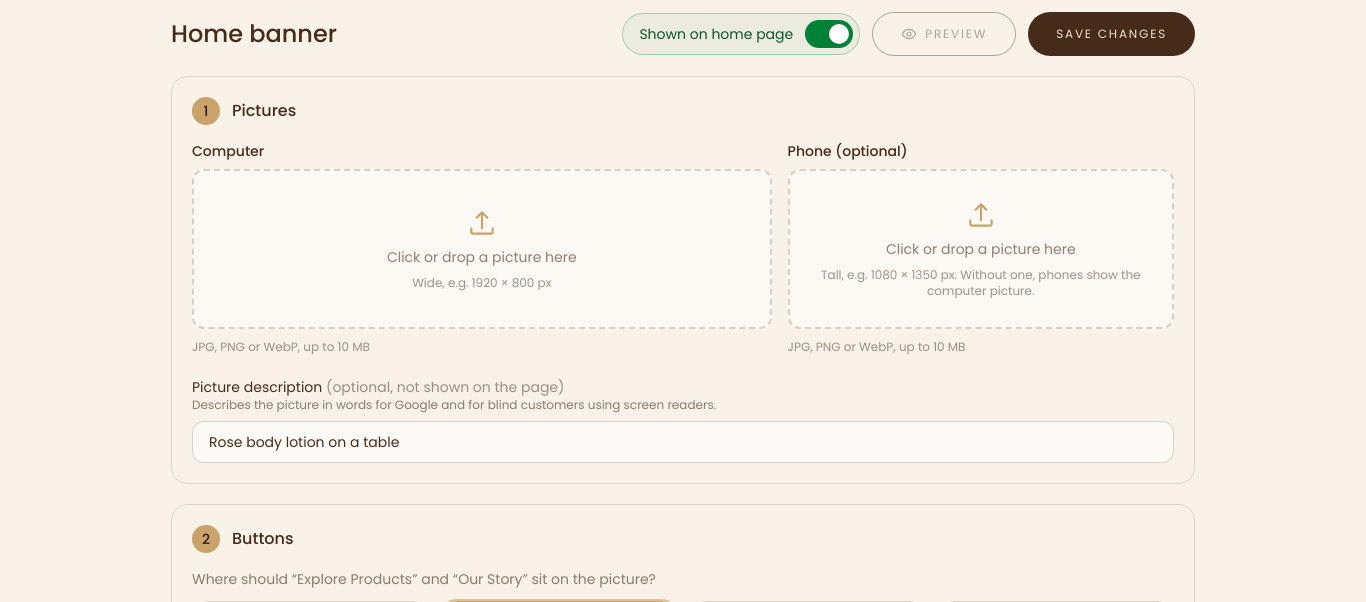
Scenario: BannerForm › a switched-on banner needs a picture
Click the button "Save changes".
click(1112, 34)  # box [1028,12,1195,56]
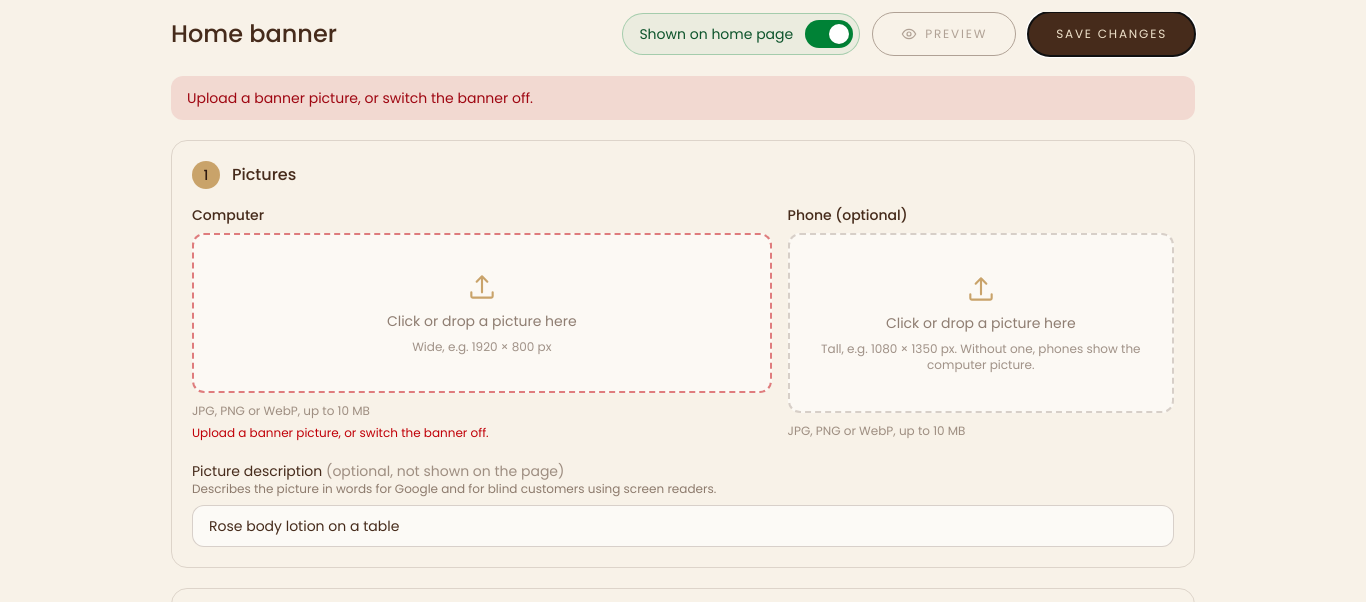
Expected: the 1st message "Upload a banner picture, or switch the banner off." is shown, [171,76,1195,120]
